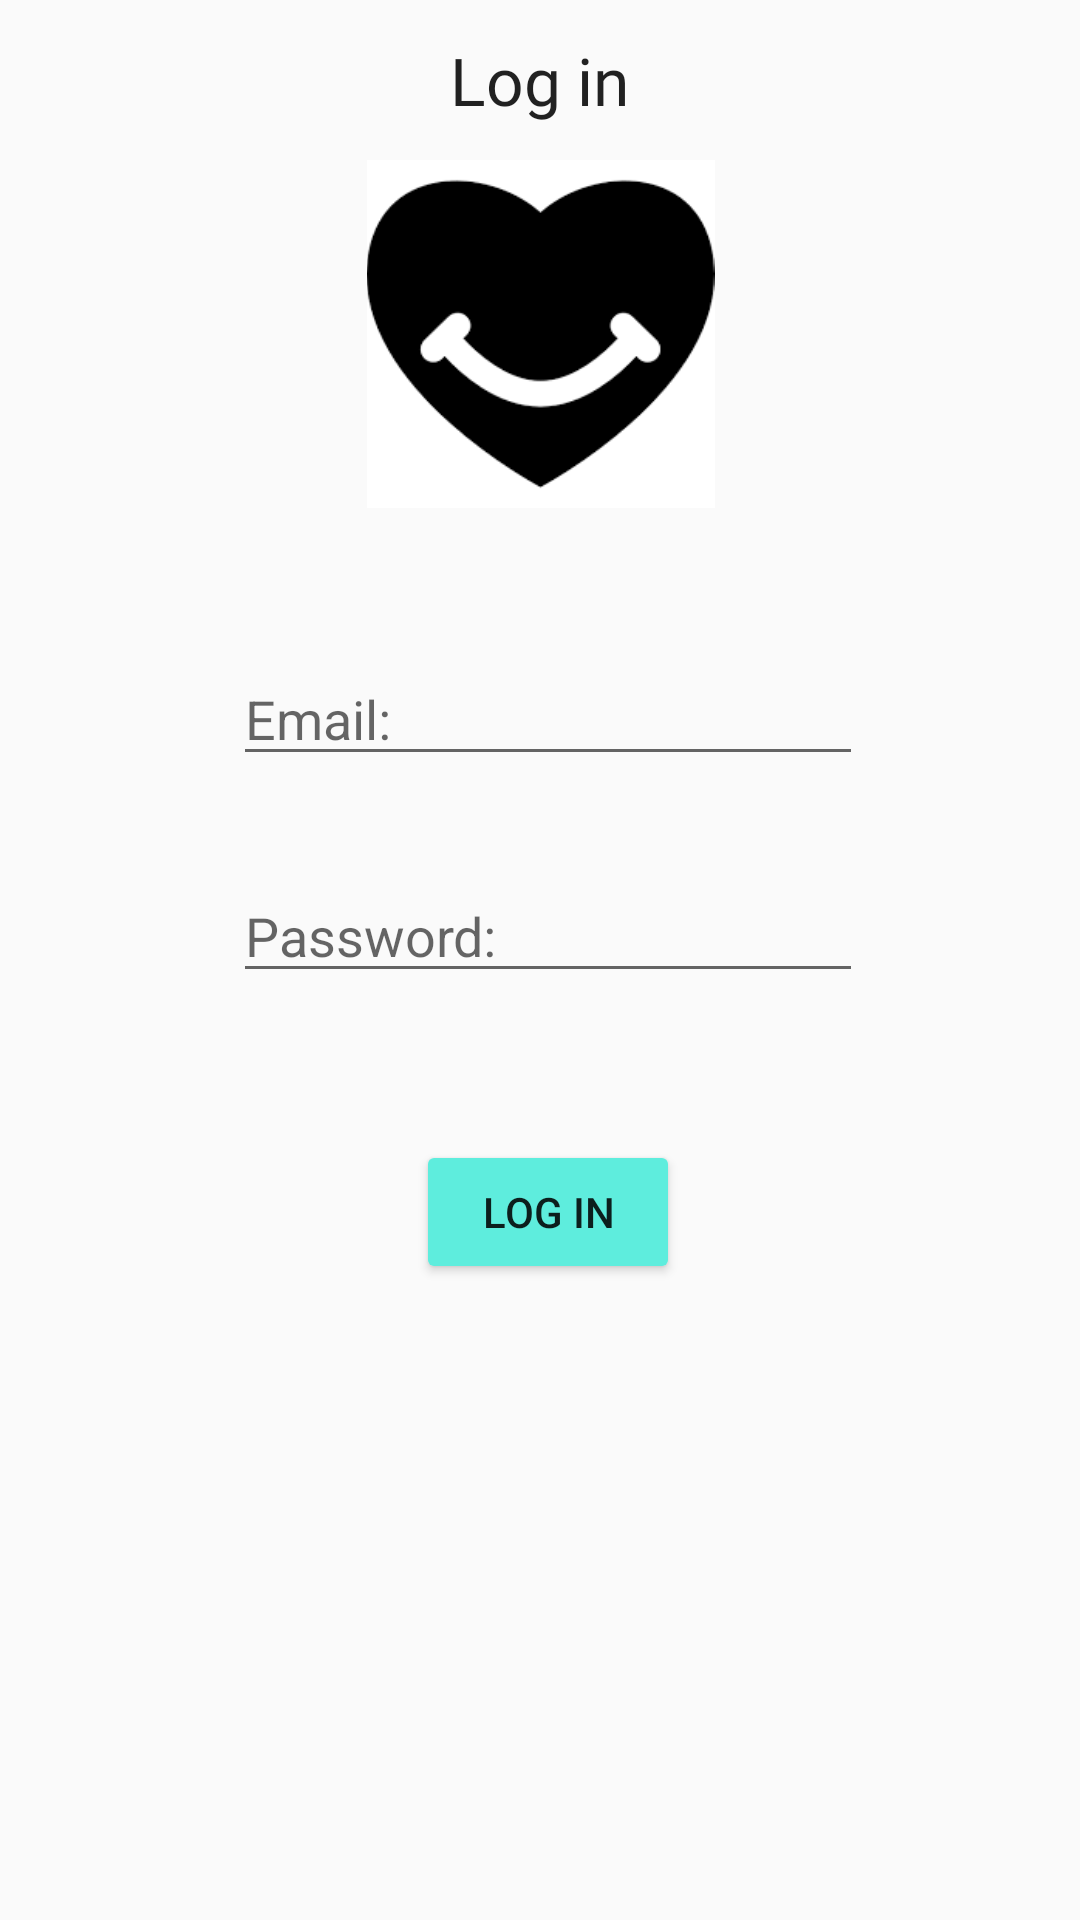

Where to tap for icons on this 1080*1920 app screen, as [x,y]:
smile: [541,334]
